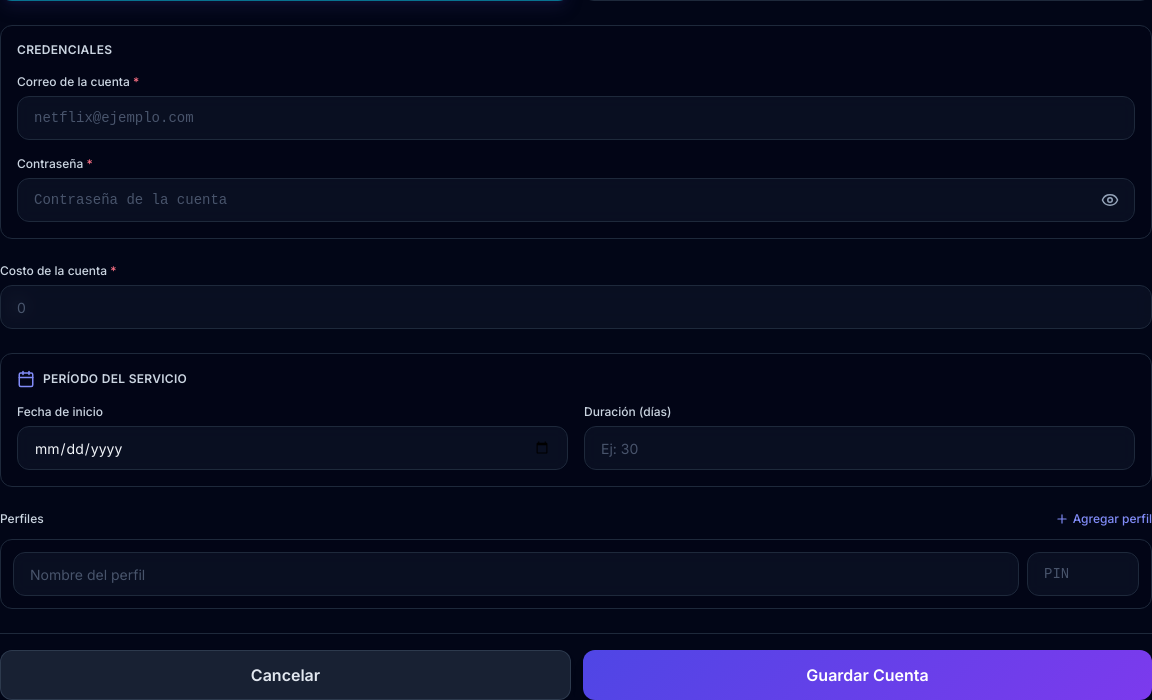
Test: CuentaForm › can add perfiles dynamically
(page scrolled)
Click the button "Agregar perfil" at (1103, 519), box 1055,511 -> 1151,527
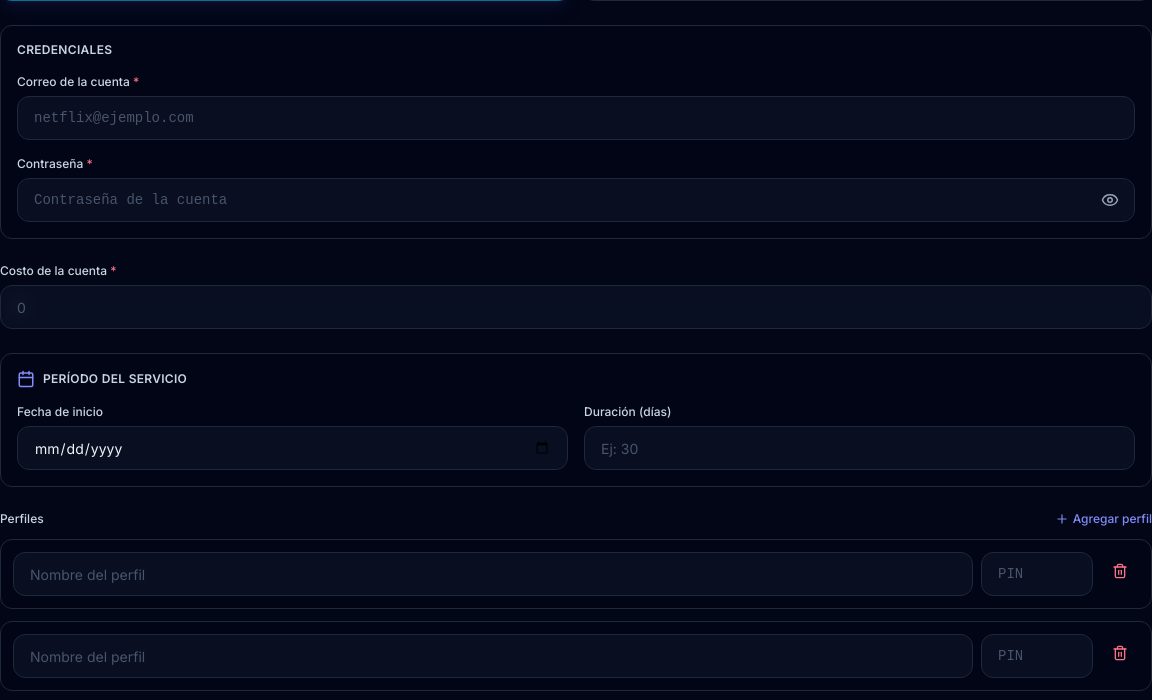
Check: the number of fields with placeholder "Nombre del perfil" is 2, box 13,552 -> 973,596; 13,634 -> 973,678
